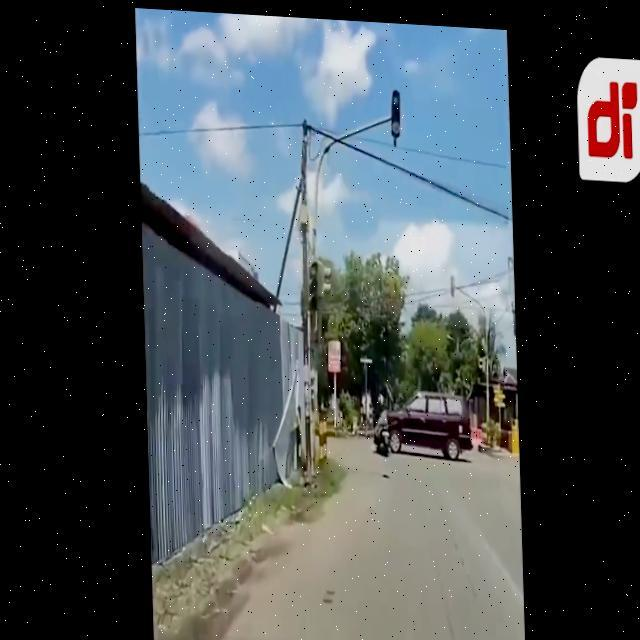normal: (347, 366, 512, 471)
